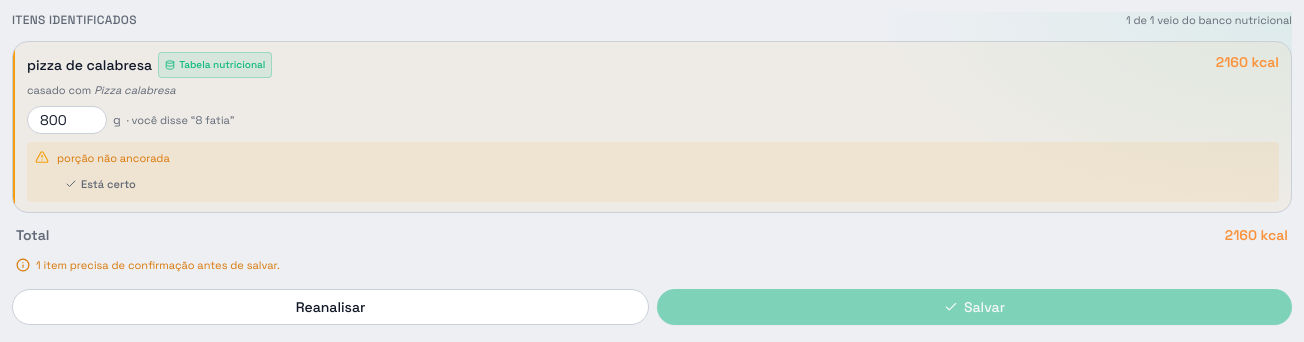
Test: AnalysisReview › libera o salvamento depois da confirmação do item
This screenshot has width=1304, height=342.
Step 1. Click the button "Está certo" → [100, 184], box [57,172,144,196]
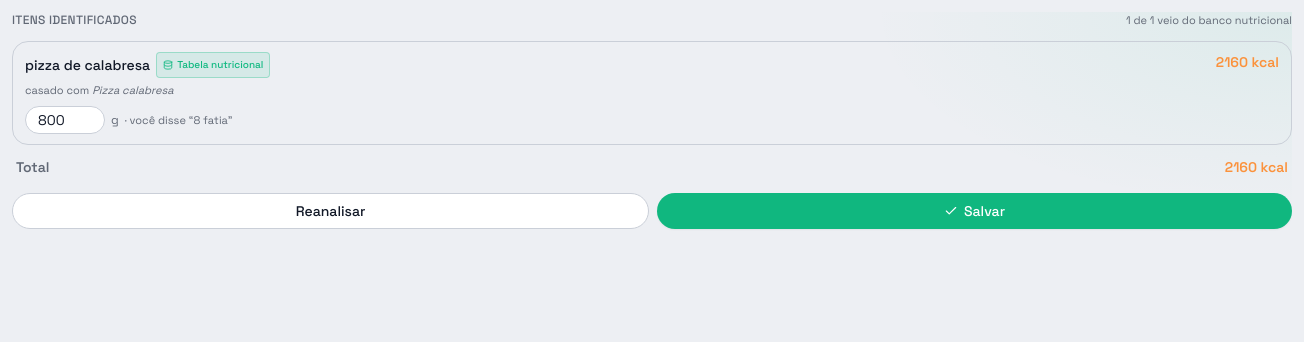
Expected: the button "Salvar" is enabled, [657,192,1292,228]
